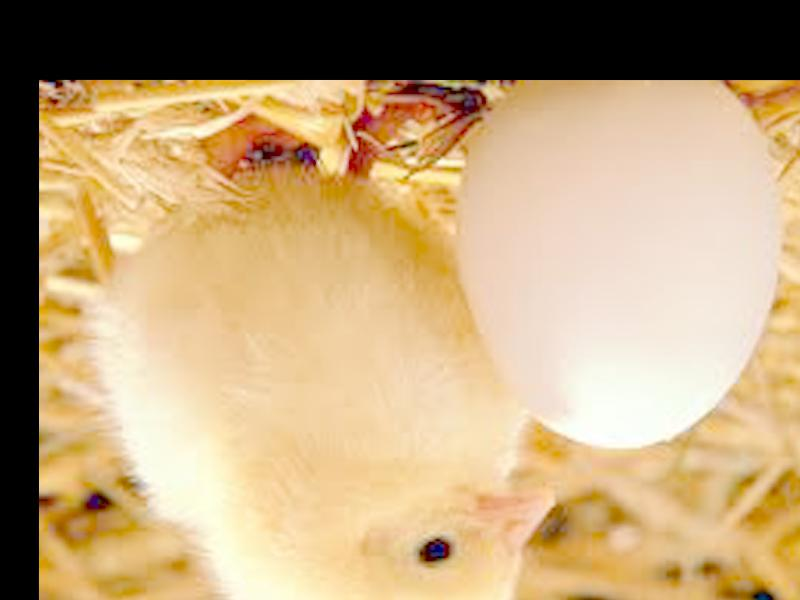Eggs: (455, 79, 779, 450)
